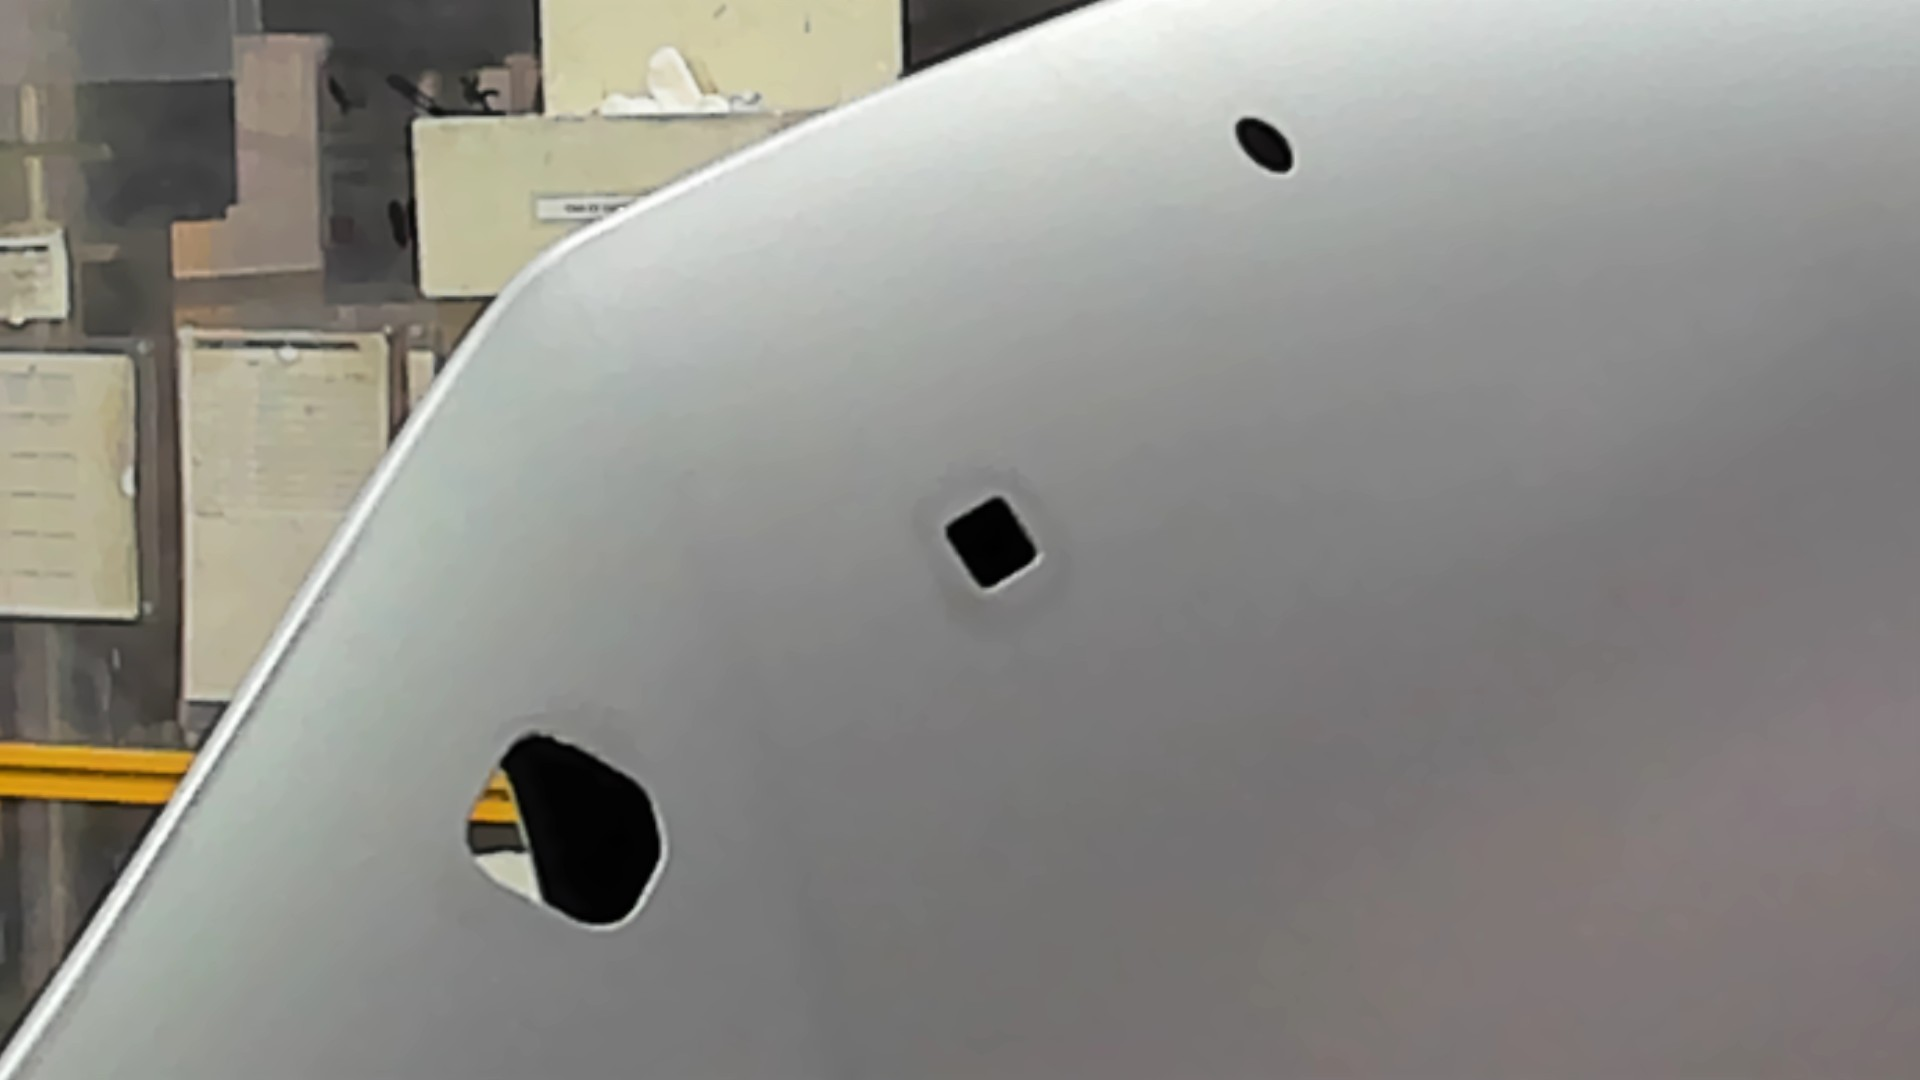chico: (1228, 111, 1300, 181)
grande: (460, 727, 670, 938)
mediano: (936, 487, 1046, 600)
